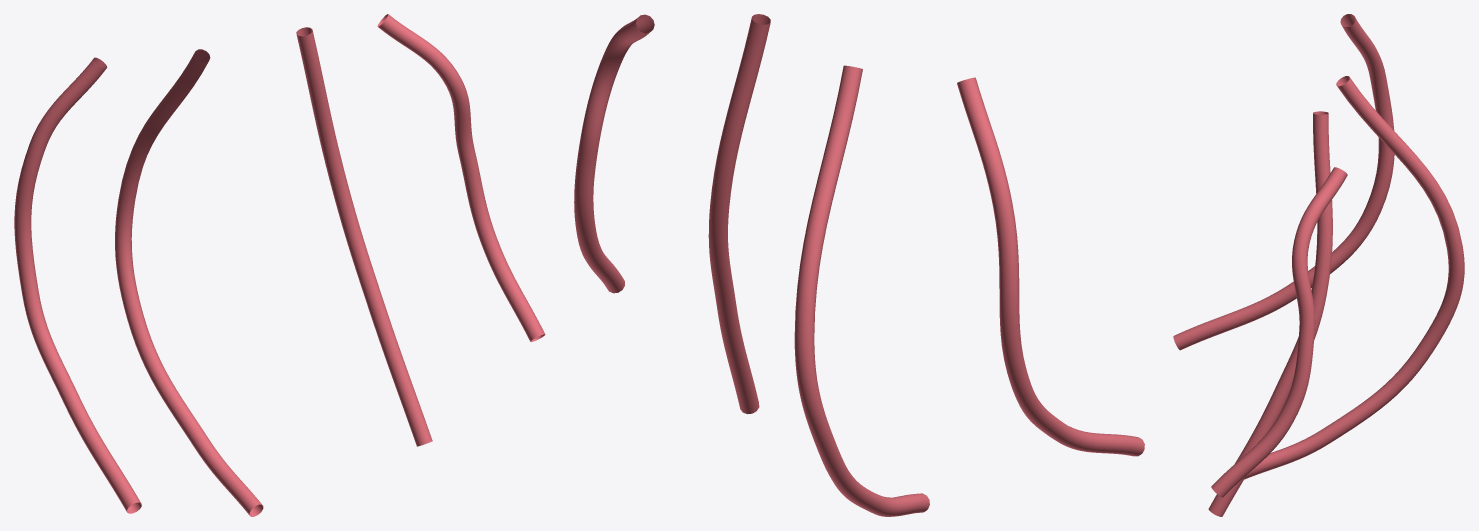
3 views of the same model, side by side, from view 1: azimuth 30°, elevation 25°; view 2: azimuth 150°, elevation 25°; view 3: azimuth 270°, elevation 25° (orthographic). The views are drawn at different scales.
Parts seen in each view (by area): view 1: ZA_4f6784c9f2ab2f50; view 2: ZA_4f6784c9f2ab2f50; view 3: ZA_4f6784c9f2ab2f50.
Boxes of the visible parts, box(x1,y1,x2,y2) form: ZA_4f6784c9f2ab2f50: box(14, 14, 545, 516); ZA_4f6784c9f2ab2f50: box(574, 14, 1144, 516); ZA_4f6784c9f2ab2f50: box(1173, 14, 1464, 516).
Size of the model in its own units: 0.0421 by 0.0402 by 0.0253.
